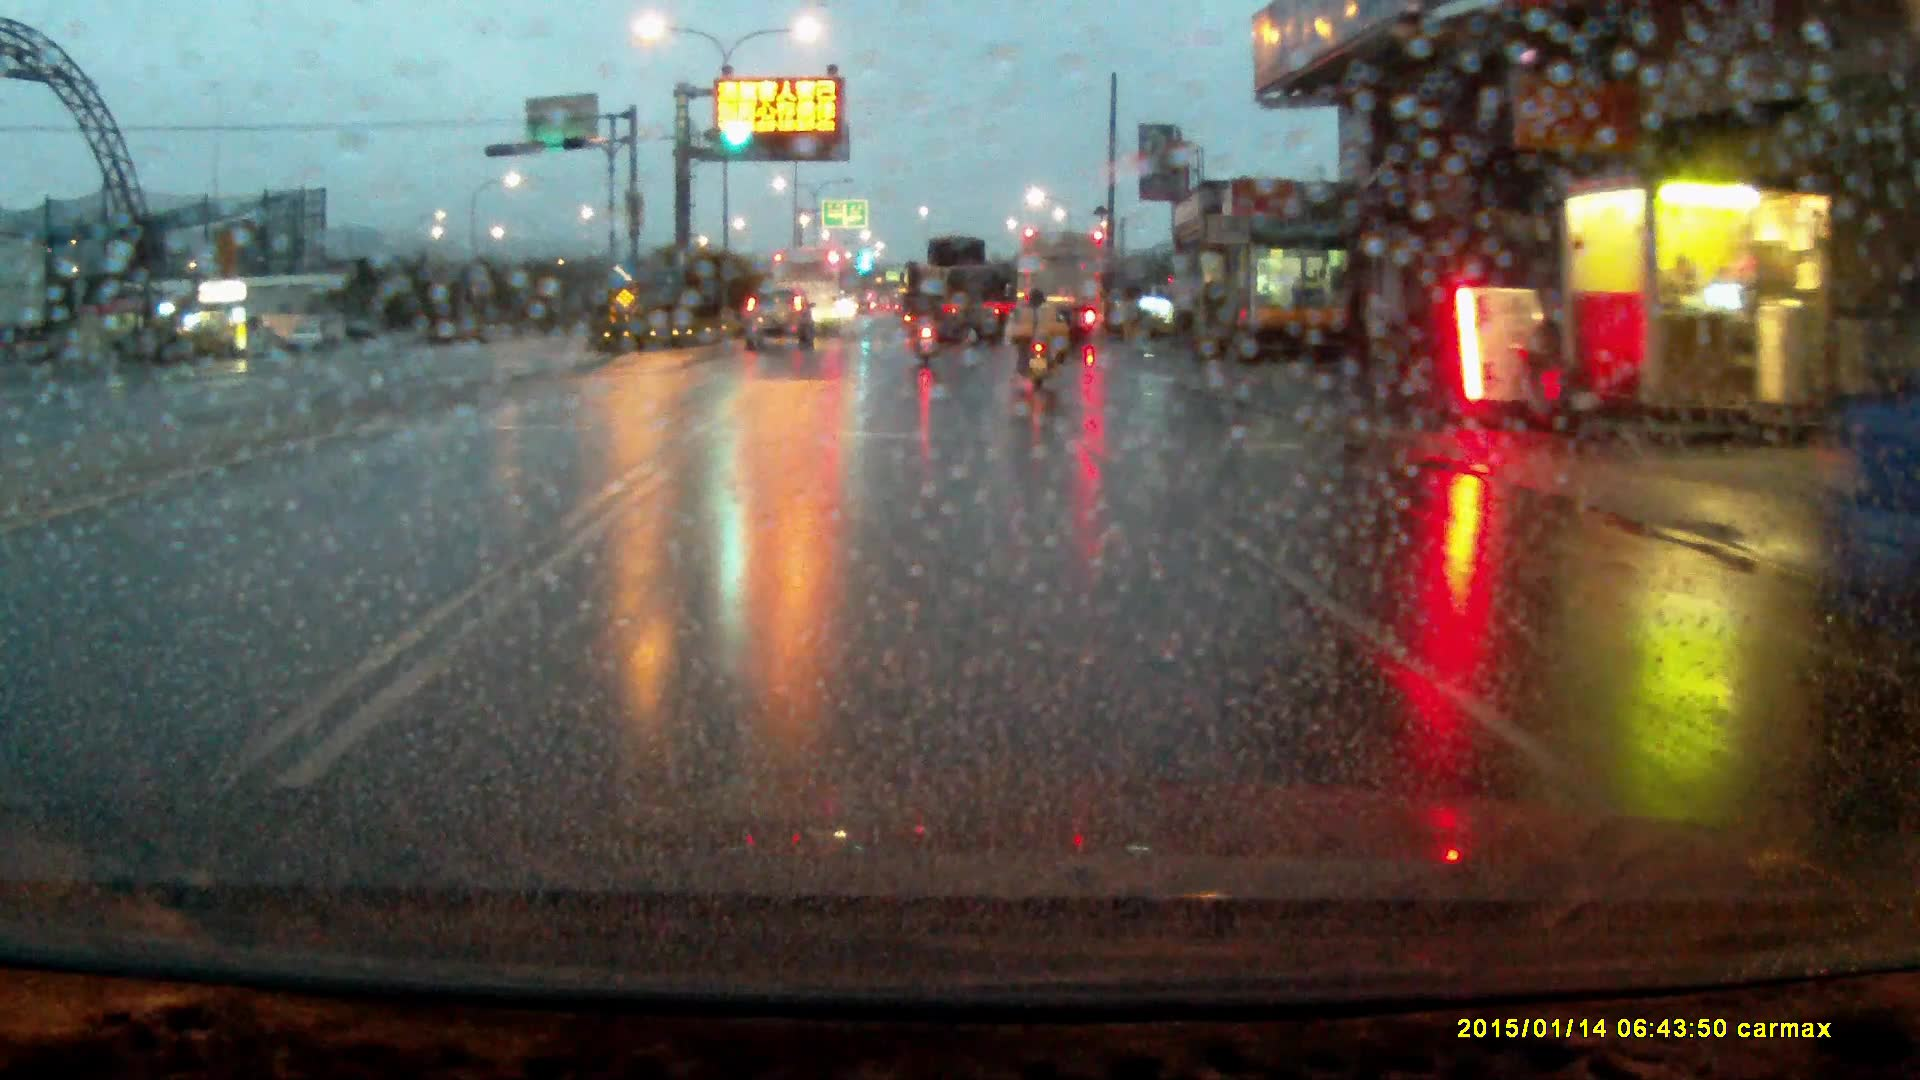rider: (1018, 287, 1060, 396), (909, 283, 941, 365)
vehicle: (914, 238, 1015, 347), (1020, 233, 1106, 348), (771, 248, 844, 334), (744, 283, 814, 347)
